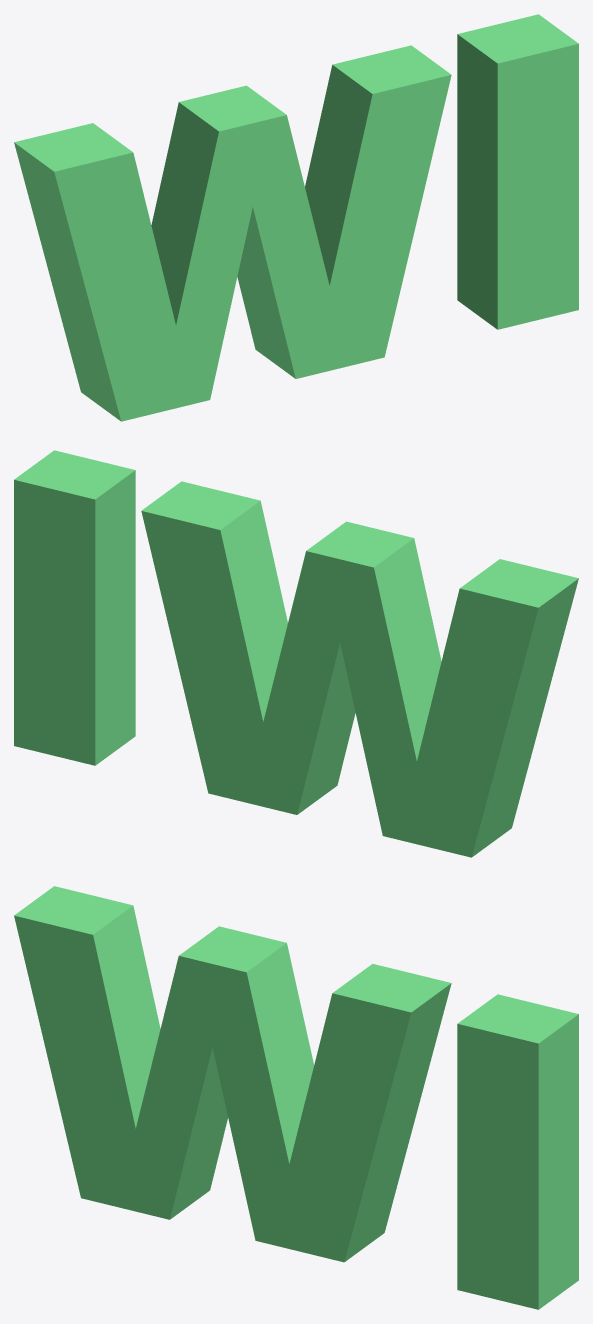
File: suku_kecil_wi.glb
3 renders of one model, top to bottom at view 1: azimuth 30°, elevation 25°; view 2: azimuth 150°, elevation 25°; view 3: azimuth 330°, elevation 25°, orthographic.
Parts seen in each view (by area): view 1: geometry_0; view 2: geometry_0; view 3: geometry_0.
Boxes of the visible parts, x1,y1,x2,y2 form: geometry_0: [14, 14, 578, 421]; geometry_0: [14, 450, 578, 857]; geometry_0: [14, 886, 578, 1309].
Bounding box in the file's own units: 11.28 × 5.47 × 1.5.
